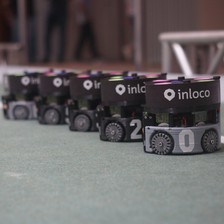robot: (142, 76, 224, 157), (100, 75, 149, 144), (67, 74, 105, 135), (37, 73, 71, 128), (2, 70, 39, 120)
